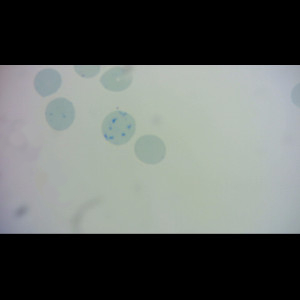aggregate reticulocyte: (100, 110, 137, 146)
erythrocyte: (133, 133, 168, 166), (98, 65, 134, 93), (33, 67, 64, 99)
punctate reticulocyte: (45, 97, 77, 133)
